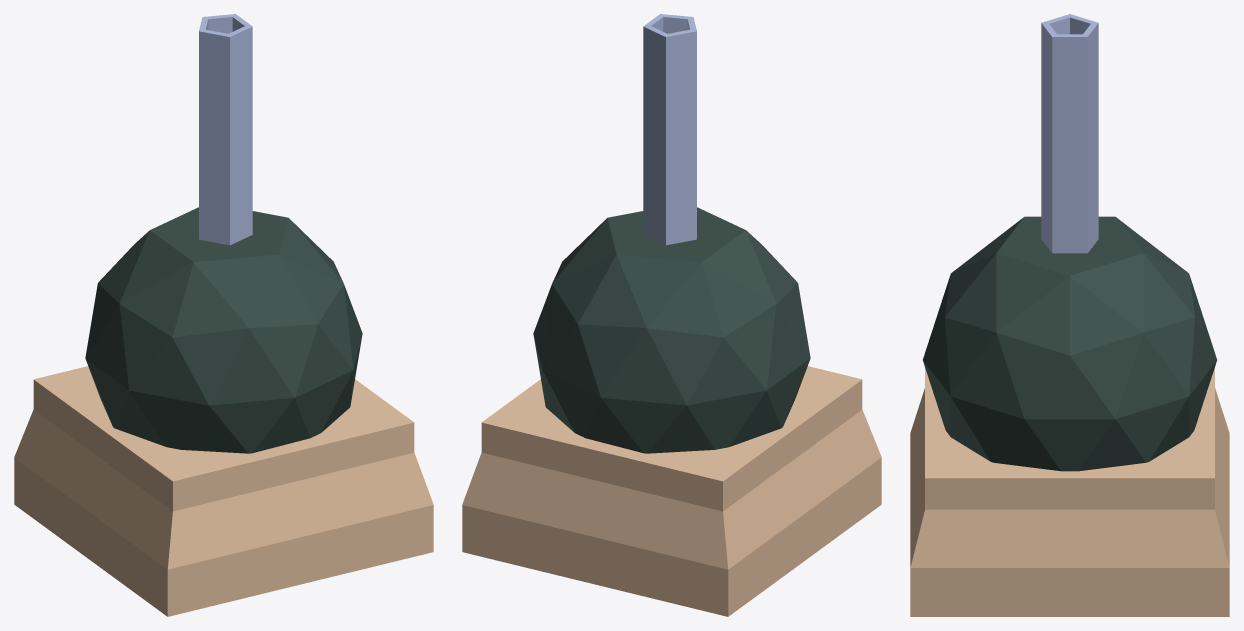
File: cannon.fbx
3 views of the same model, side by side, from view 1: azimuth 30°, elevation 25°; view 2: azimuth 150°, elevation 25°; view 3: azimuth 270°, elevation 25° (orthographic). The views are drawn at different scales.
Visible parts, largest first — view 1: Cannon, Base; view 2: Cannon, Base; view 3: Cannon, Base.
Boxes of the visible parts, x1=… form: Cannon: x1=85, y1=14, x2=362, y2=453; Base: x1=14, y1=366, x2=433, y2=616; Cannon: x1=533, y1=14, x2=810, y2=453; Base: x1=462, y1=366, x2=881, y2=616; Cannon: x1=923, y1=14, x2=1216, y2=471; Base: x1=910, y1=368, x2=1229, y2=616.
Size of the model in its own units: 184 by 333 by 184.
